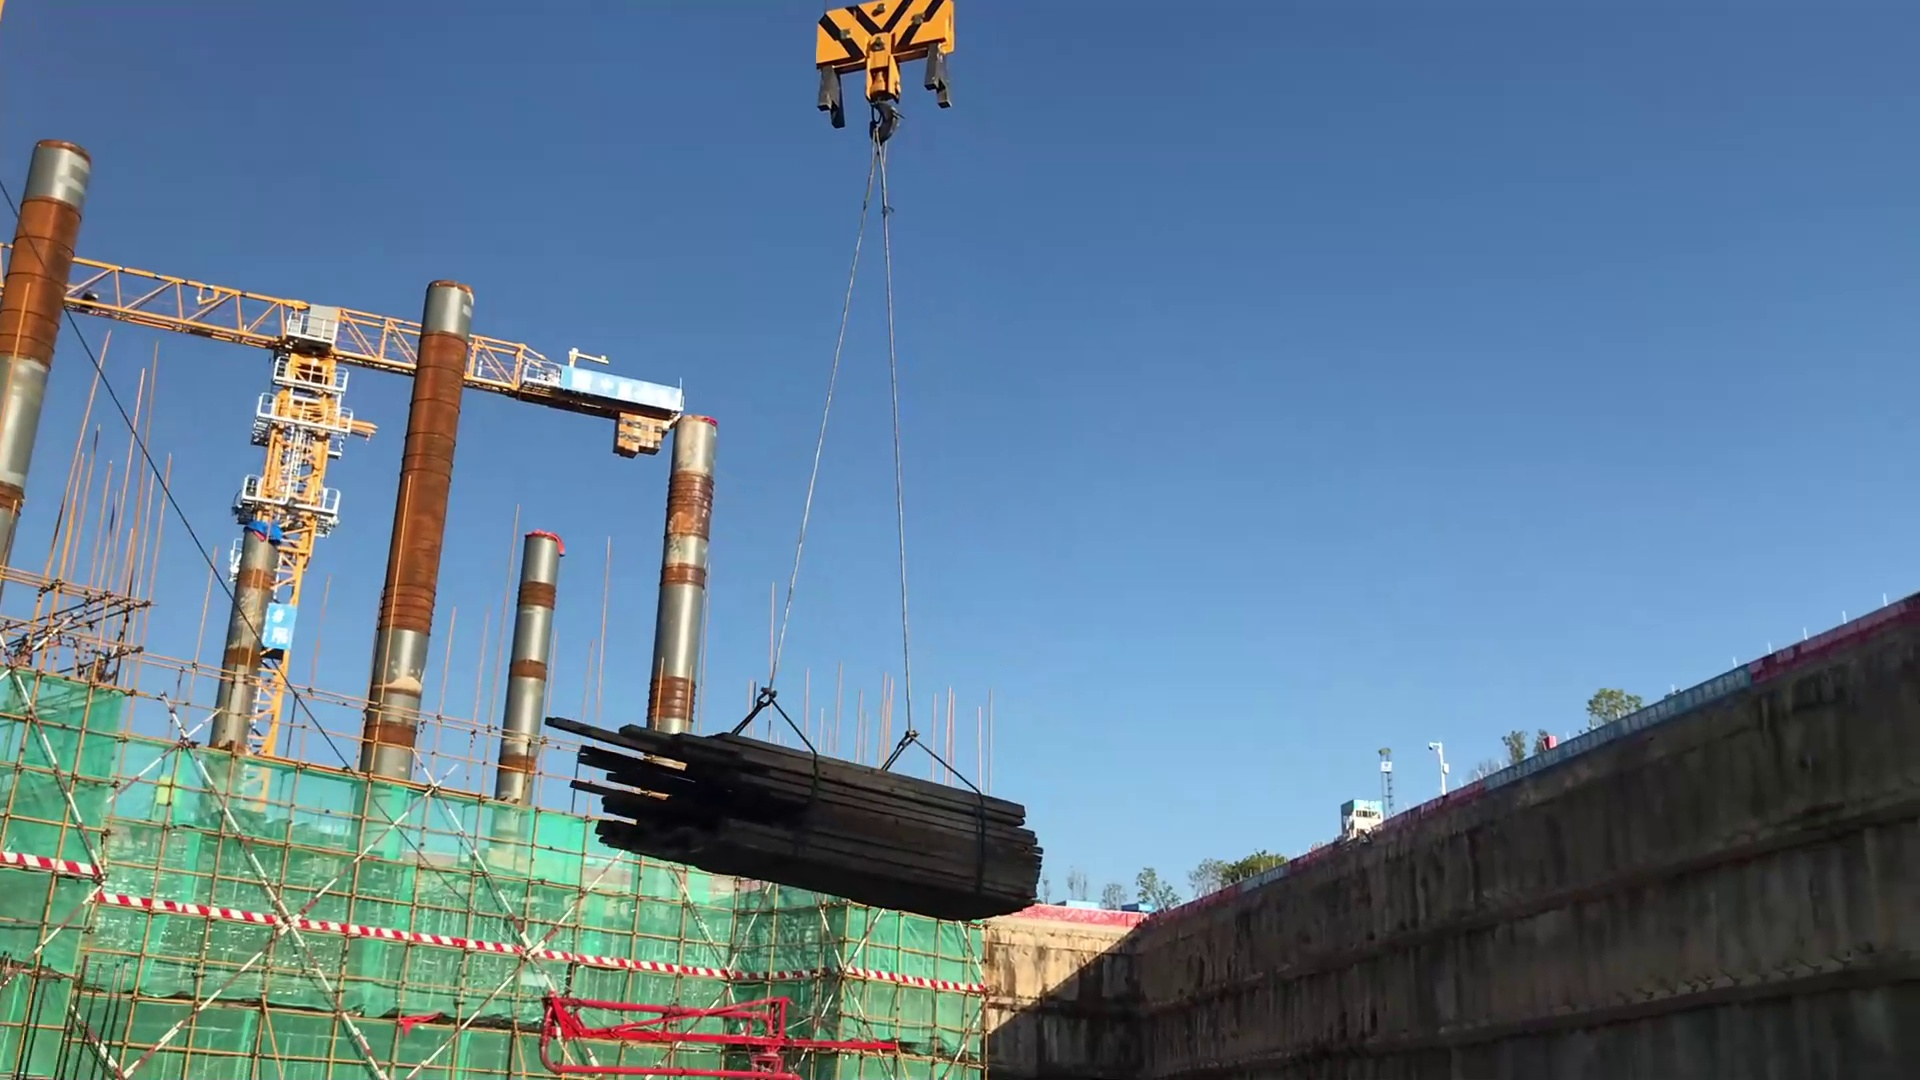hook: (806, 7, 967, 140)
wood: (539, 698, 1047, 938)
